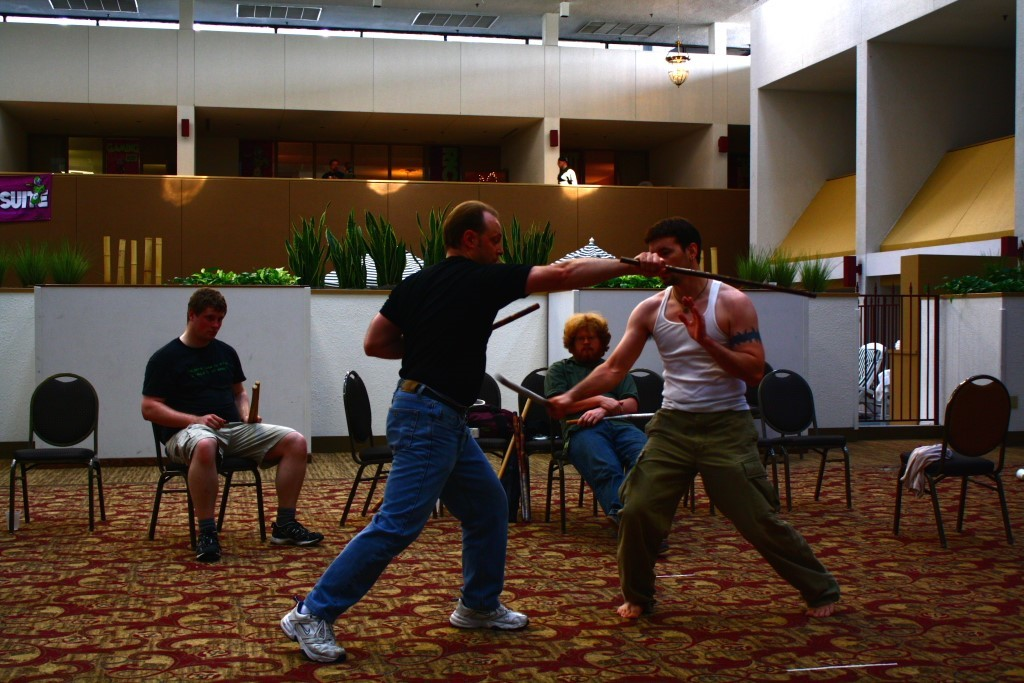baston_e: (626, 255, 808, 298), (498, 401, 531, 475), (498, 374, 549, 405), (489, 303, 534, 331), (574, 411, 652, 426), (249, 389, 259, 423)
baston_v: (616, 253, 629, 267), (807, 288, 818, 303), (530, 301, 542, 312), (495, 372, 503, 384), (564, 416, 573, 426), (525, 393, 534, 402), (250, 383, 258, 391), (254, 378, 261, 386)
